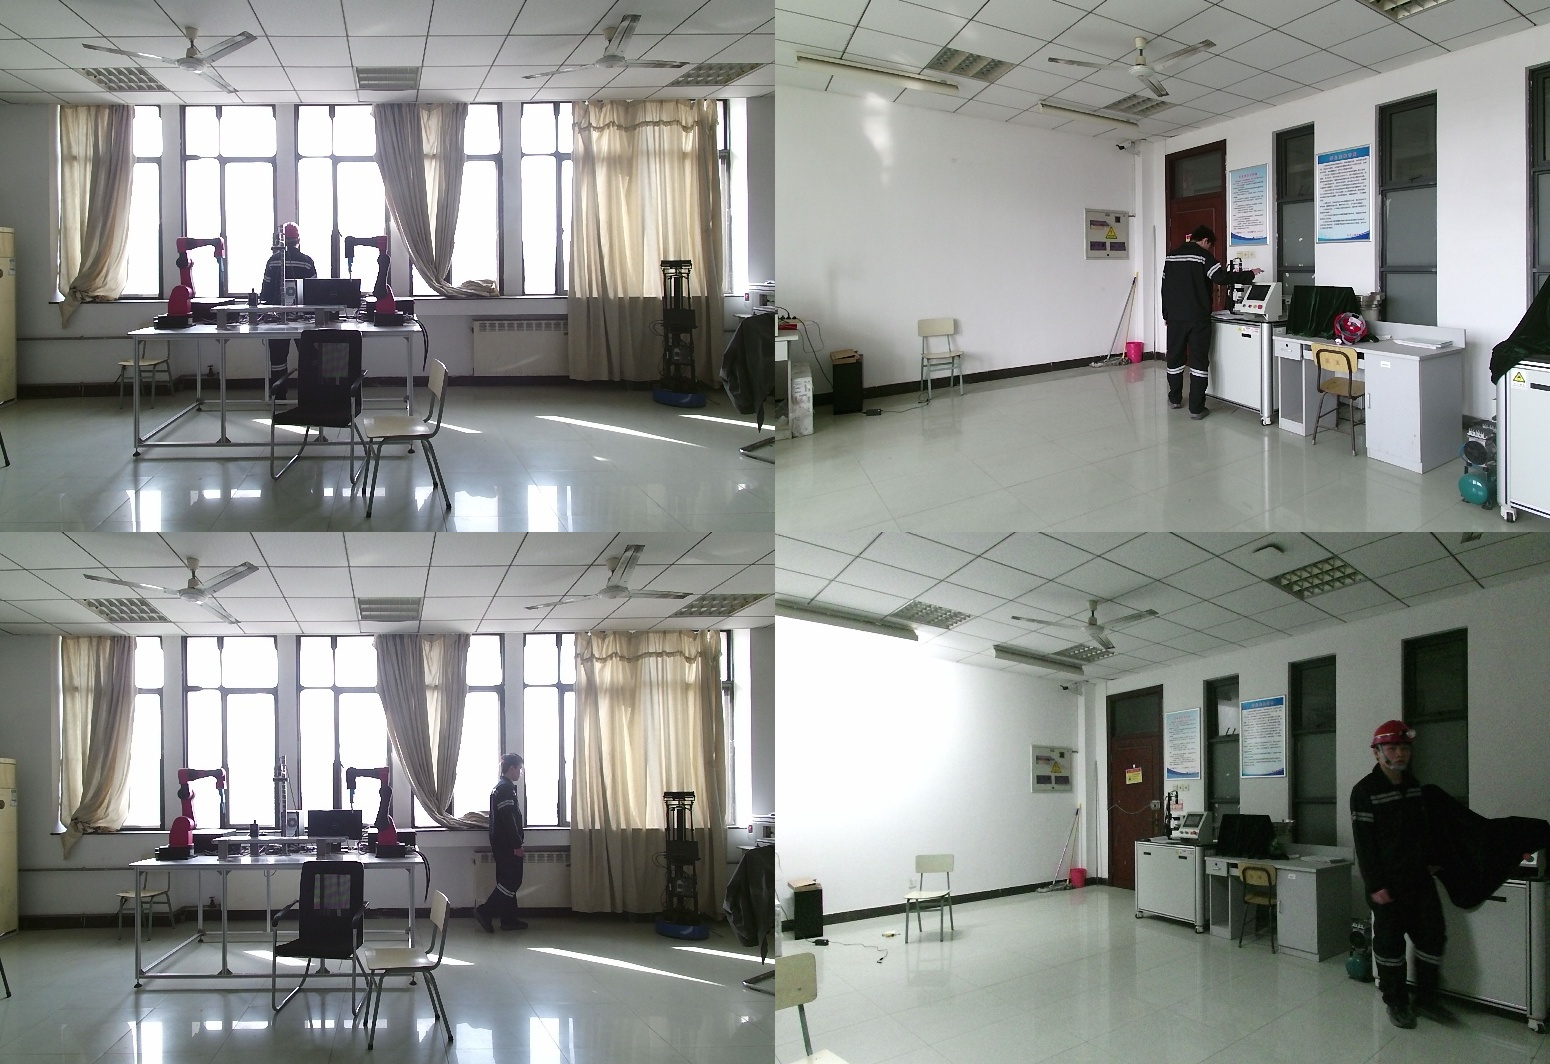person: (1349, 721, 1442, 1028), (1161, 231, 1275, 420), (464, 752, 529, 940), (262, 226, 326, 407)
